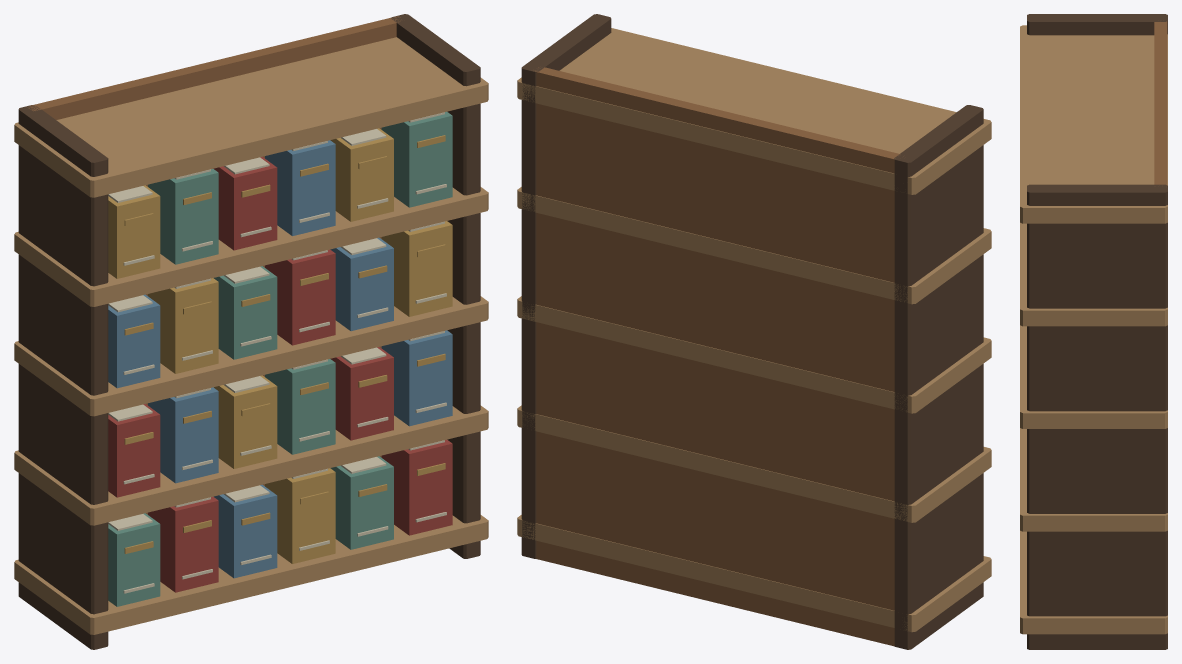
File: shelf_archives.glb
3 views of the same model, side by side, from view 1: azimuth 30°, elevation 25°; view 2: azimuth 150°, elevation 25°; view 3: azimuth 270°, elevation 25° (orthographic). The views are drawn at different scales.
Parts seen in each view (by area): view 1: geometry; view 2: geometry; view 3: geometry.
Part boxes in pixels (x1=…): geometry: x1=14, y1=14, x2=488, y2=649; geometry: x1=517, y1=14, x2=991, y2=649; geometry: x1=1020, y1=14, x2=1167, y2=649.
Size of the model in its own units: 1.84 by 2.15 by 0.63.
